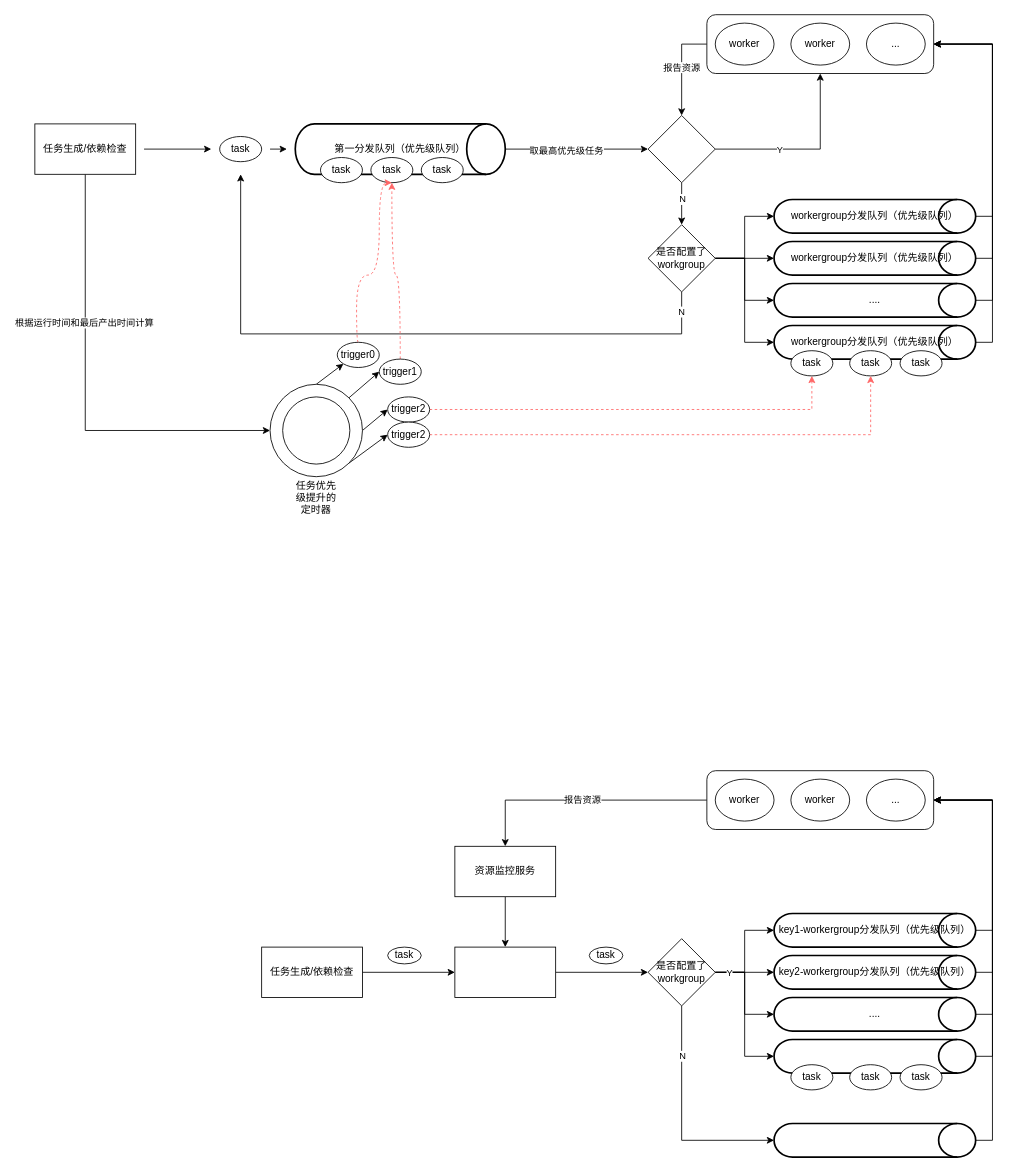
Image size: 1014x1173. Some labels were removed from this diagram. Here are the shapes that lost their labels. From the top down, the centre of each, then its label:
[681,149]: 可以分发?
[505,972]: 分发服务
[874,1056]: keyN-workergroup分发队列（优先级队列）
[874,1140]: default 分发队列（优先级队列）
